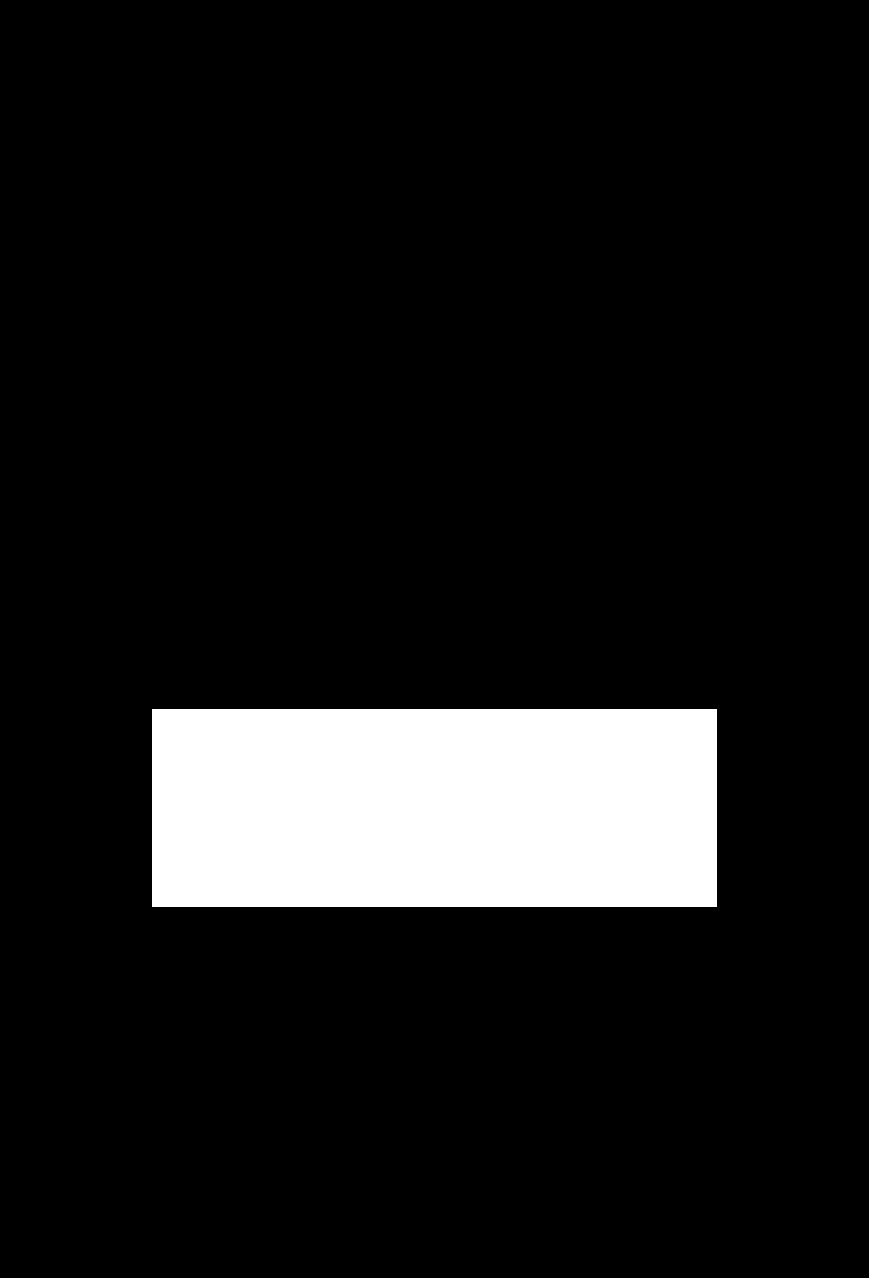table: (152, 709, 716, 906)
